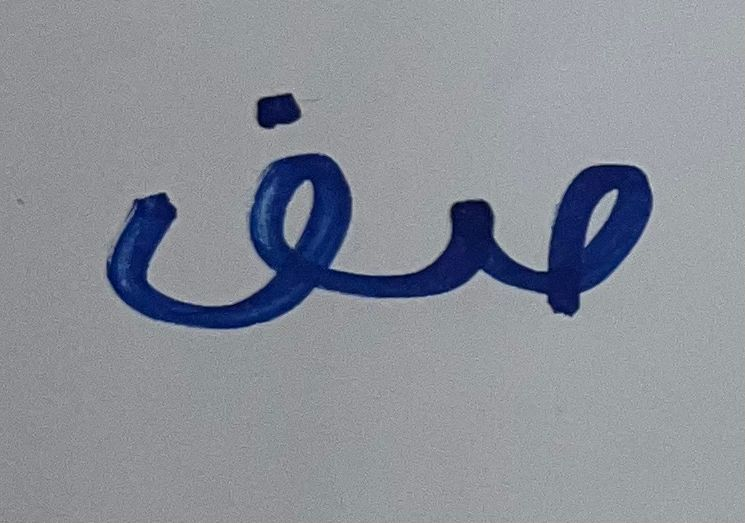qaf: (73, 62, 392, 341)
sad: (406, 131, 676, 336)
